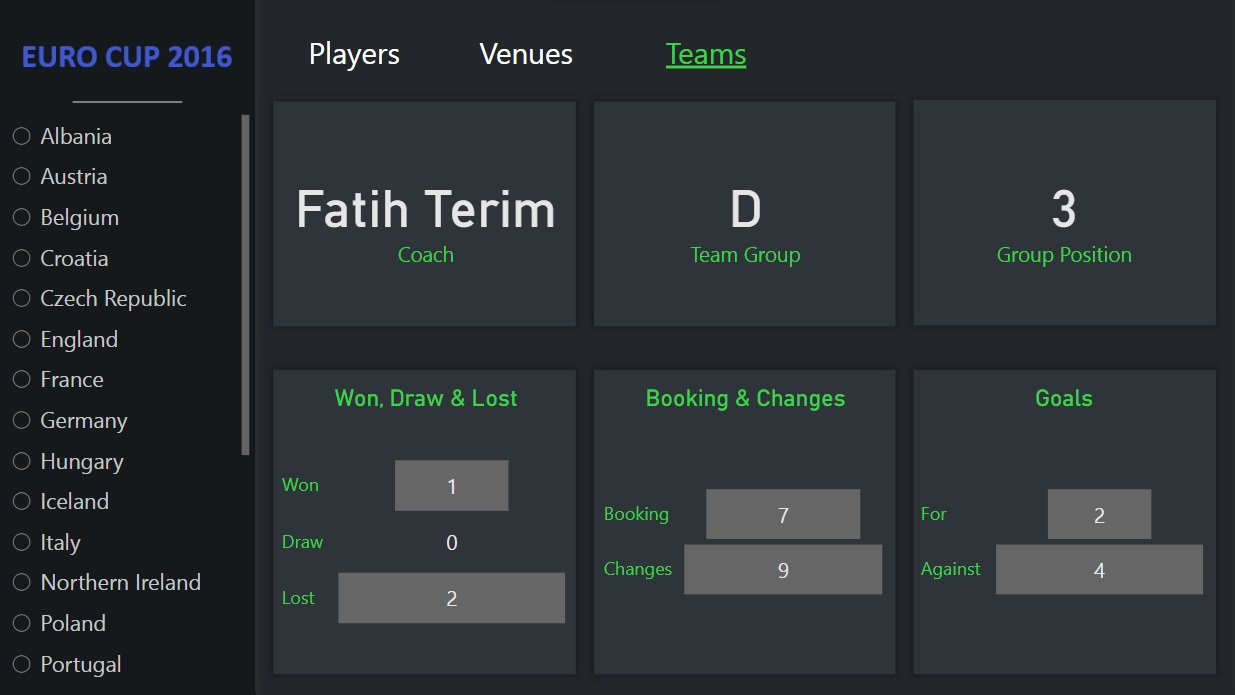

This screenshot's page, from the dashboard's own definition file:
{"tool":"powerbi","page":{"name":"teams","canvas":[1280,720],"ordinal":2},"visuals":[{"type":"slicer","fields":{"Values":["vw_general_teams.country_name"]},"box":[0,113.9,265,606.1],"z":0},{"type":"funnel","title":"Won, Draw & Lost","fields":{"Y":["vw_general_teams.won","vw_general_teams.draw","vw_general_teams.lost"]},"box":[288.3,398.3,308.3,296.7],"z":1000},{"type":"funnel","title":"Booking & Changes","fields":{"Y":["vw_general_teams.booking","vw_general_teams.changes"]},"box":[621.7,398.3,303.3,296.7],"z":2000},{"type":"funnel","title":"Goals","fields":{"Y":["vw_general_teams.goal_for","vw_general_teams.goal_agnst"]},"box":[950,398.3,306.7,296.7],"z":3000},{"type":"card","fields":{"Values":["vw_general_teams.coach"]},"box":[288.3,113.3,308.3,218.3],"z":4000},{"type":"card","fields":{"Values":["vw_general_teams.team_group"]},"box":[621.7,113.3,303.3,218.3],"z":5000},{"type":"card","fields":{"Values":["vw_general_teams.group_position"]},"box":[950,113.3,306.7,218.3],"z":6000},{"type":"shape","box":[295.6,25,145,56.7],"z":7000},{"type":"shape","box":[473.3,25,145,56.7],"z":8000},{"type":"shape","box":[660,25,145,56.7],"z":9000}]}

Visuals, with their boxes in screenshot pixels (x1, y1, x2, y2), scaled from the page's 1280x720 canvas onto the 1235x695 screenshot:
slicer - vw_general_teams.country_name: rect(0, 110, 256, 694)
"Won, Draw & Lost" funnel: rect(278, 384, 576, 671)
"Booking & Changes" funnel: rect(600, 384, 892, 671)
"Goals" funnel: rect(917, 384, 1213, 671)
card - vw_general_teams.coach: rect(278, 109, 576, 320)
card - vw_general_teams.team_group: rect(600, 109, 892, 320)
card - vw_general_teams.group_position: rect(917, 109, 1213, 320)
shape: rect(285, 24, 425, 79)
shape: rect(457, 24, 597, 79)
shape: rect(637, 24, 777, 79)
